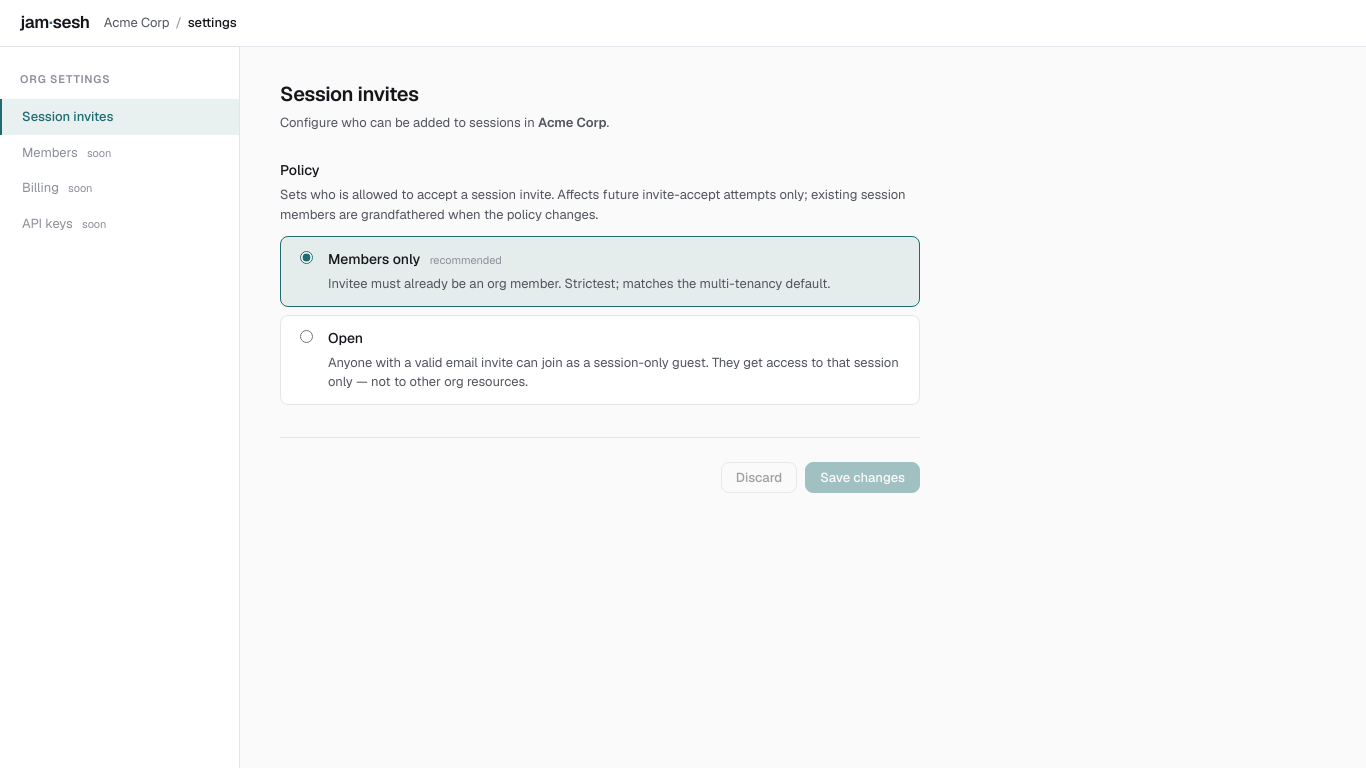
Scenario: OrgSettings › Save button becomes enabled when admin changes policy
Check: the heading "Session invites" is shown, box x1=280 y1=80 x2=419 y2=106
Click the radio button labelled "Open": [306, 336] box x1=300 y1=330 x2=313 y2=342
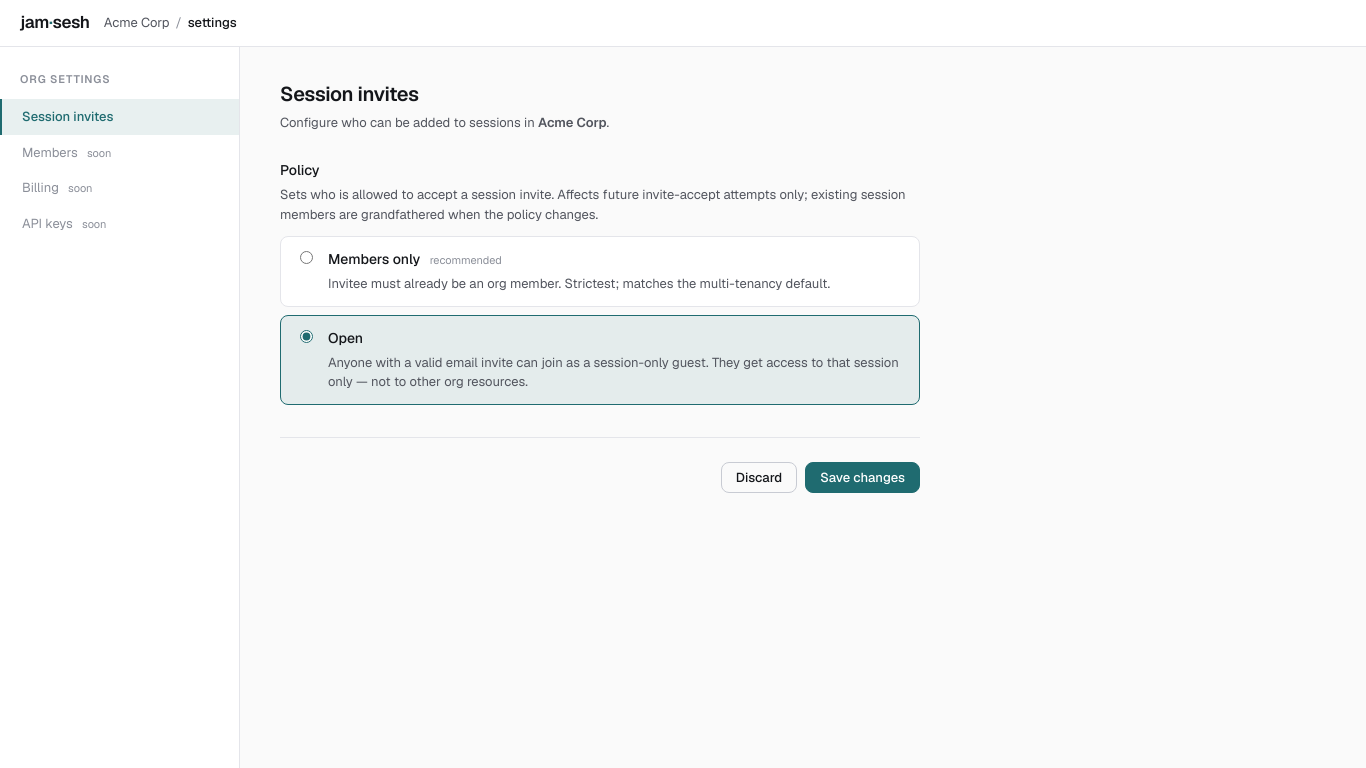
Check: the button "Save changes" is enabled, box x1=805 y1=462 x2=920 y2=492
